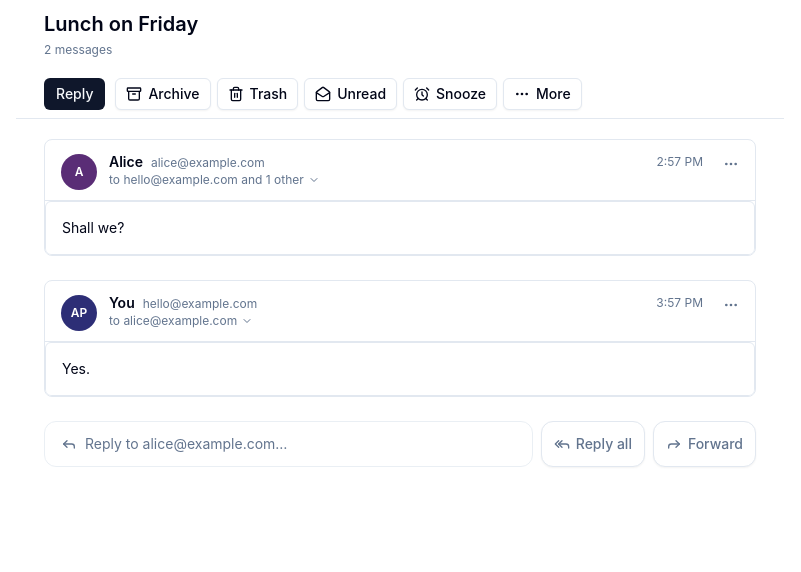
the desktop toolbar › Summarize under More shows the summary where the reader can find it
The image size is (801, 572).
Press Enter in the button with aria-label "More actions", box [503,78,582,110]
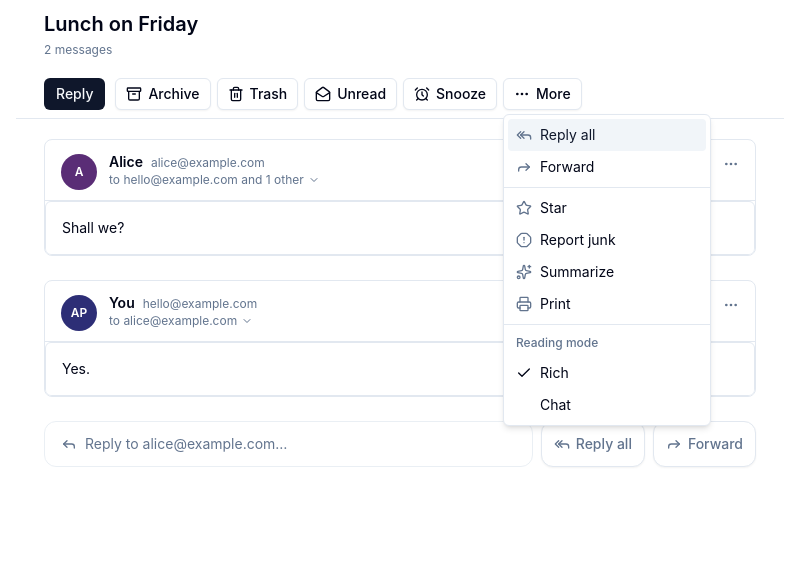
Click the menu item "Summarize": click(565, 272) [516,263,614,280]
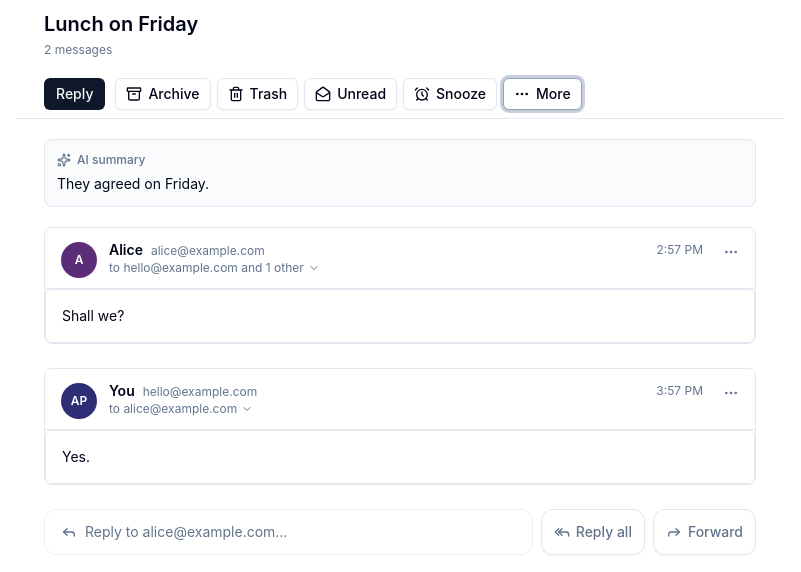
Now the text "They agreed on Friday." is shown, box [57,175,209,192]
Now the message shows "AI summary", box [77,152,146,167]
